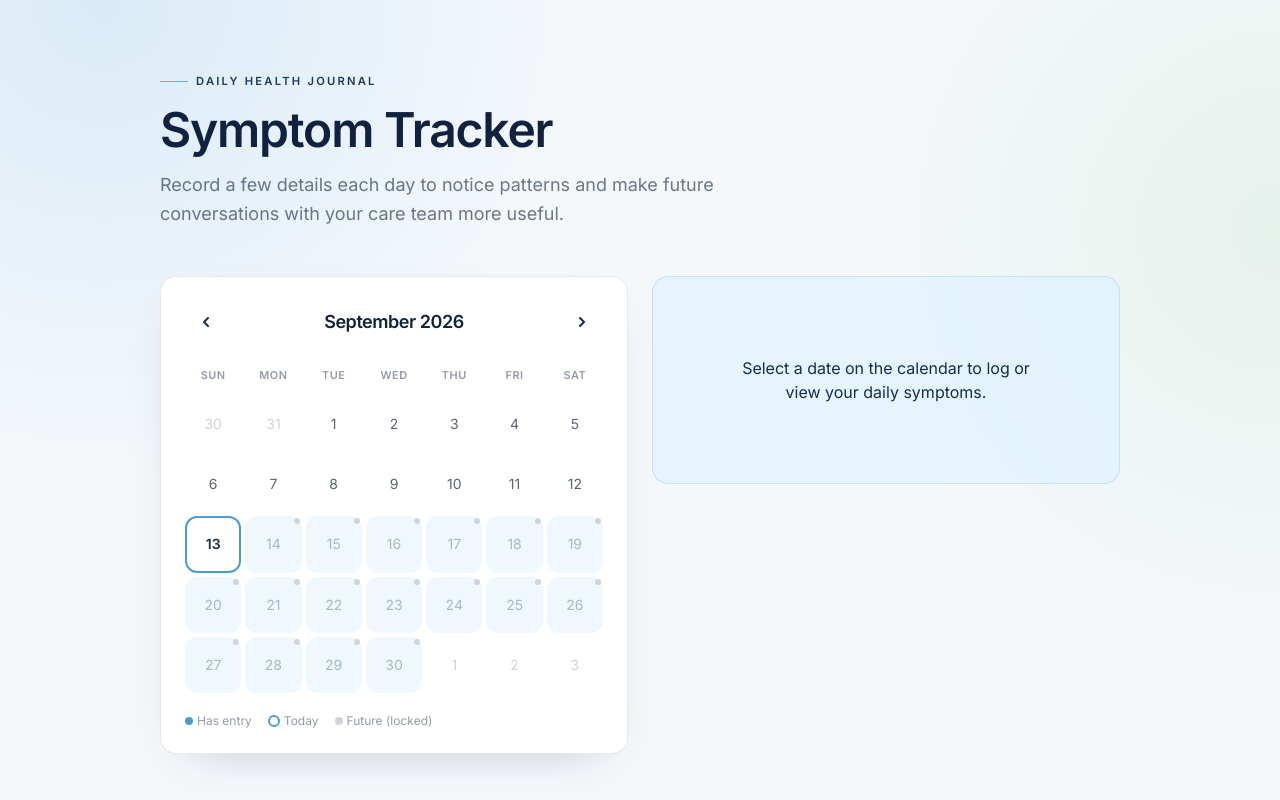
Scenario: SymptomTrackerPage › shows error message when save fails due to quota
The image size is (1280, 800).
Click the cell "13" at (213, 544), box x1=185 y1=516 x2=241 y2=573
(page scrolled)
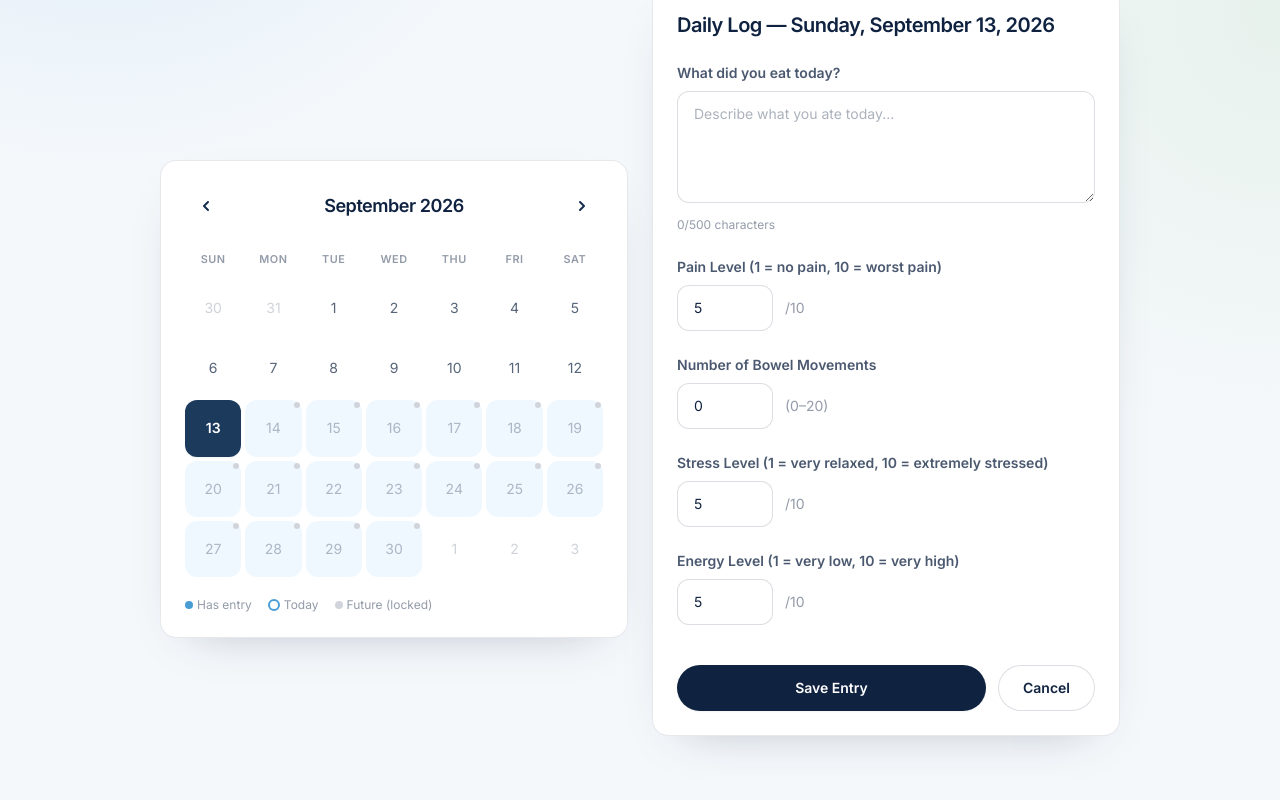
Submit the form
Click the button "Save Entry" at (832, 688), box x1=677 y1=665 x2=986 y2=711
(page scrolled)
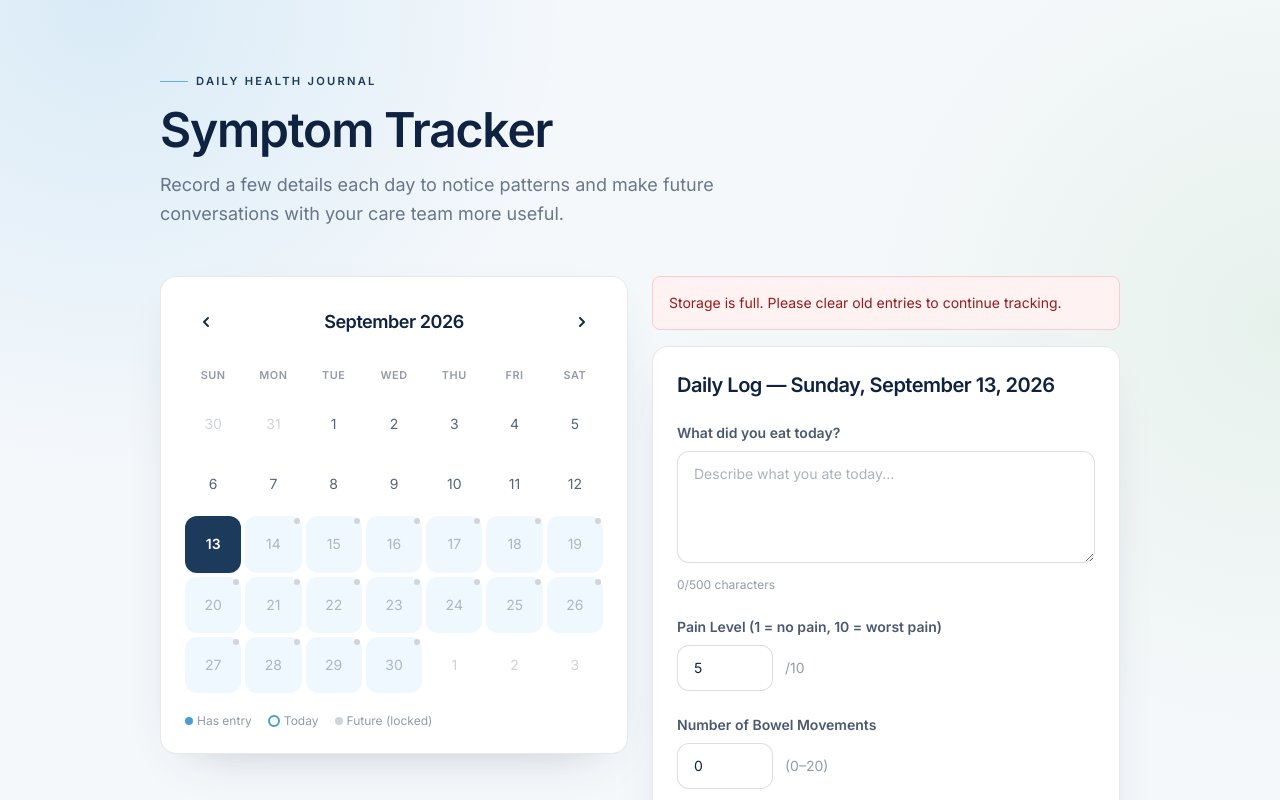
expect the text "Storage is full" is shown: met, box x1=669 y1=294 x2=1062 y2=311
